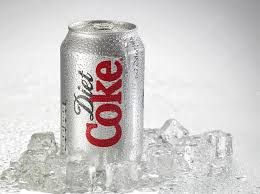can: (56, 16, 145, 168)
